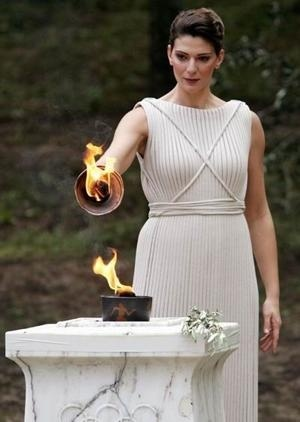fire: (90, 249, 135, 295), (82, 140, 117, 199)
